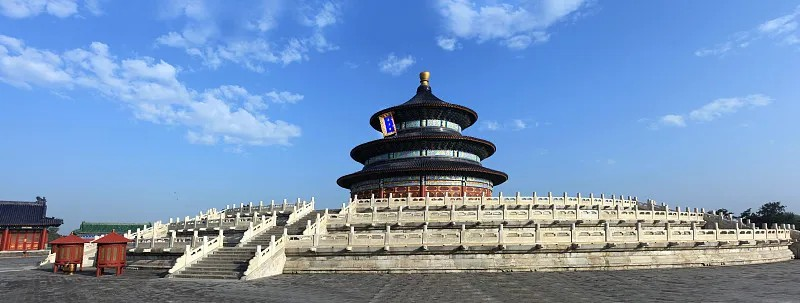Heaven: (334, 71, 508, 201)
